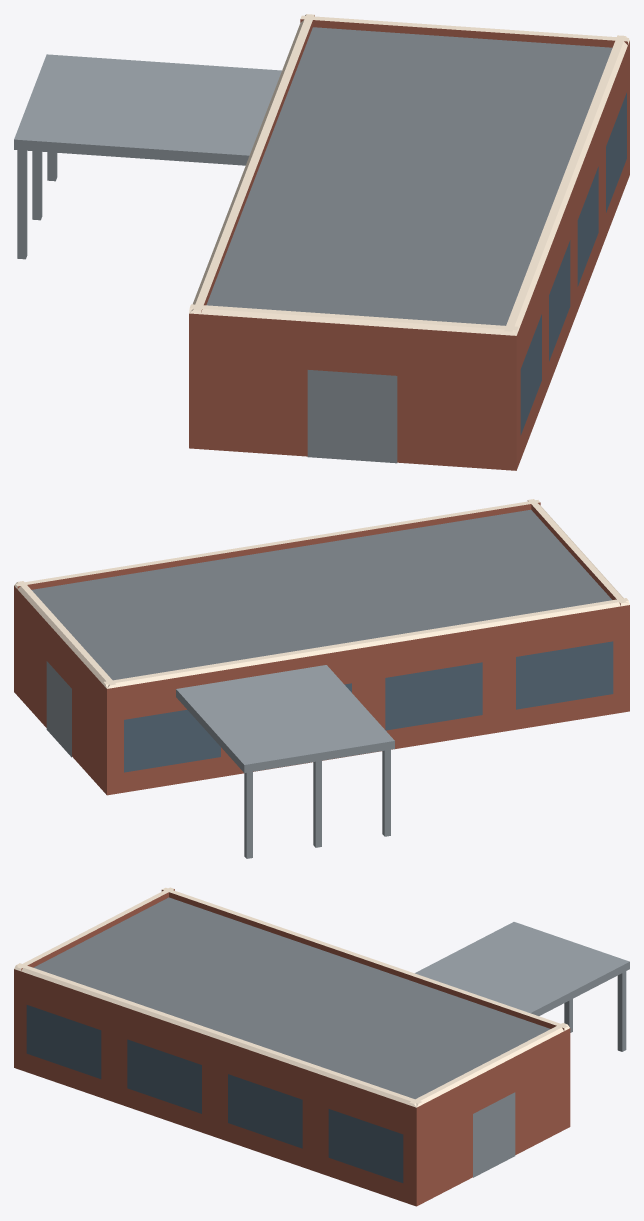
File: detail.glb
3 views of the same model, one above another, from view 1: azimuth 30°, elevation 25°; view 2: azimuth 150°, elevation 25°; view 3: azimuth 270°, elevation 25° (orthographic). The views are drawn at different scales.
Parts seen in each view (by area): view 1: 200-camp-road; view 2: 200-camp-road; view 3: 200-camp-road.
Part boxes in pixels (box(x1,y1,x2,y2)): 200-camp-road: box(14, 14, 629, 470); 200-camp-road: box(14, 499, 629, 858); 200-camp-road: box(14, 887, 629, 1206).
Size of the model in its own units: 24.87 by 5.4 by 29.65.
